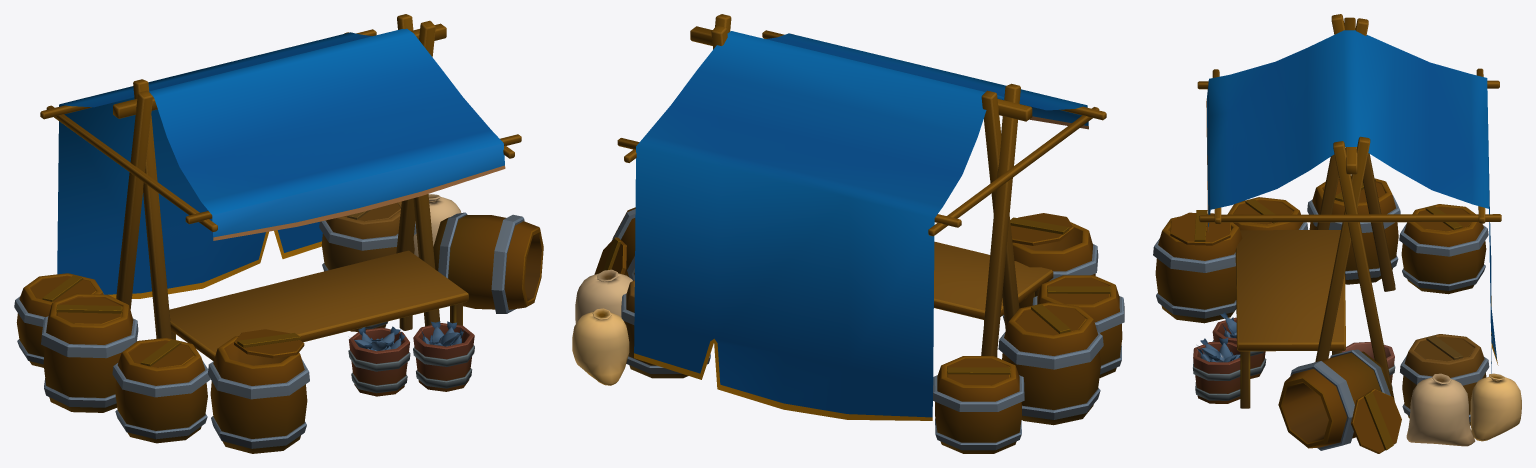
File: Fish_Market_lvl3.fbx
3 renders of one model, left to right at view 1: azimuth 30°, elevation 25°; view 2: azimuth 150°, elevation 25°; view 3: azimuth 270°, elevation 25°, orthographic. The views are drawn at different scales.
Parts seen in each view (by area): view 1: Fish_Market_lvl3_Tent, Fish_Market_lvl3_Table, Fish_Market_lvl3_Barrel, Fish_Market_lvl3_Barrel1, Fish_Market_lvl3_Barrel5, Fish_Market_lvl3_Barrel2, Fish_Market_lvl3_Barrel4, Fish_Market_lvl3_Bucket_with_Fish1, Fish_Market_lvl3_Bucket_with_Fish, Fish_Market_lvl3_Barrel3, Fish_Market_lvl3_Bag.004; view 2: Fish_Market_lvl3_Tent, Fish_Market_lvl3_Barrel1, Fish_Market_lvl3_Barrel3, Fish_Market_lvl3_Table, Fish_Market_lvl3_Barrel, Fish_Market_lvl3_Barrel2, Fish_Market_lvl3_Bag.005, Fish_Market_lvl3_Bag.004, Fish_Market_lvl3_Barrel5, Fish_Market_lvl3_Barrel4; view 3: Fish_Market_lvl3_Tent, Fish_Market_lvl3_Table, Fish_Market_lvl3_Barrel5, Fish_Market_lvl3_Barrel, Fish_Market_lvl3_Barrel3, Fish_Market_lvl3_Barrel4, Fish_Market_lvl3_Bag.004, Fish_Market_lvl3_Barrel1, Fish_Market_lvl3_Bag.005, Fish_Market_lvl3_Bucket_with_Fish, Fish_Market_lvl3_Barrel2, Fish_Market_lvl3_Bucket_with_Fish1 (+1 smaller).
Part boxes in pixels (x1,y1,x2,y2): Fish_Market_lvl3_Tent: (40,14,521,338); Fish_Market_lvl3_Table: (169,250,468,360); Fish_Market_lvl3_Barrel: (208,329,309,453); Fish_Market_lvl3_Barrel1: (41,293,138,412); Fish_Market_lvl3_Barrel5: (433,212,543,313); Fish_Market_lvl3_Barrel2: (112,337,210,443); Fish_Market_lvl3_Barrel4: (319,201,416,271); Fish_Market_lvl3_Bucket_with_Fish1: (348,326,410,396); Fish_Market_lvl3_Bucket_with_Fish: (413,321,474,391); Fish_Market_lvl3_Barrel3: (14,273,103,367); Fish_Market_lvl3_Bag.004: (413,194,461,256); Fish_Market_lvl3_Tent: (617,14,1106,420); Fish_Market_lvl3_Barrel1: (998,302,1103,425); Fish_Market_lvl3_Barrel3: (933,356,1024,453); Fish_Market_lvl3_Table: (934,241,1053,357); Fish_Market_lvl3_Barrel: (1002,213,1098,322); Fish_Market_lvl3_Barrel2: (1032,275,1124,378); Fish_Market_lvl3_Bag.005: (572,308,629,385); Fish_Market_lvl3_Bag.004: (575,269,632,323); Fish_Market_lvl3_Barrel5: (594,207,635,280); Fish_Market_lvl3_Barrel4: (621,280,710,378); Fish_Market_lvl3_Tent: (1197,14,1501,400); Fish_Market_lvl3_Table: (1235,230,1345,408); Fish_Market_lvl3_Barrel5: (1278,349,1401,453); Fish_Market_lvl3_Barrel: (1153,210,1242,323); Fish_Market_lvl3_Barrel3: (1399,204,1488,294); Fish_Market_lvl3_Barrel4: (1400,334,1489,425); Fish_Market_lvl3_Bag.004: (1406,373,1475,446); Fish_Market_lvl3_Barrel1: (1307,175,1400,284); Fish_Market_lvl3_Bag.005: (1470,373,1521,441); Fish_Market_lvl3_Bucket_with_Fish: (1193,338,1240,403); Fish_Market_lvl3_Barrel2: (1227,197,1307,230); Fish_Market_lvl3_Bucket_with_Fish1: (1212,312,1266,378).
Bounding box in the file's own units: 427 × 250 × 304.
